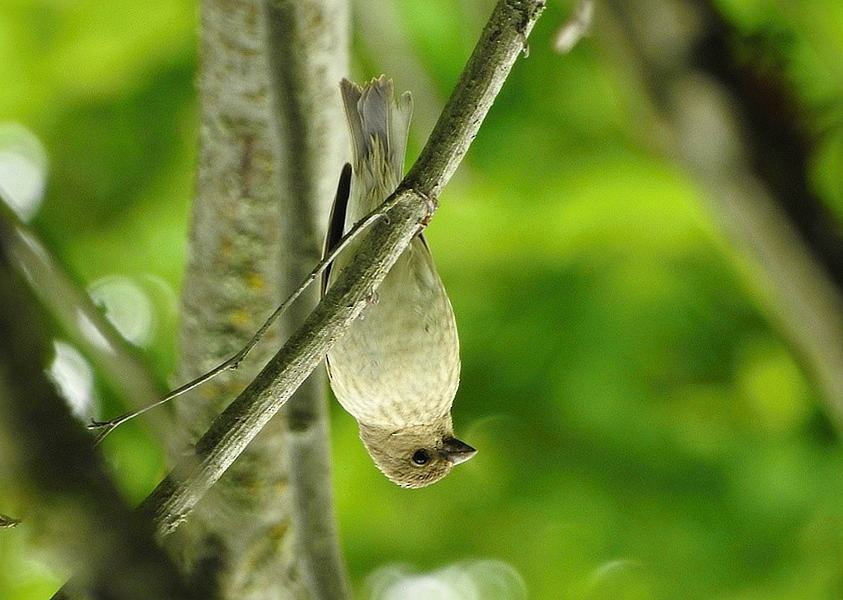rosefinch: (272, 70, 496, 505)
